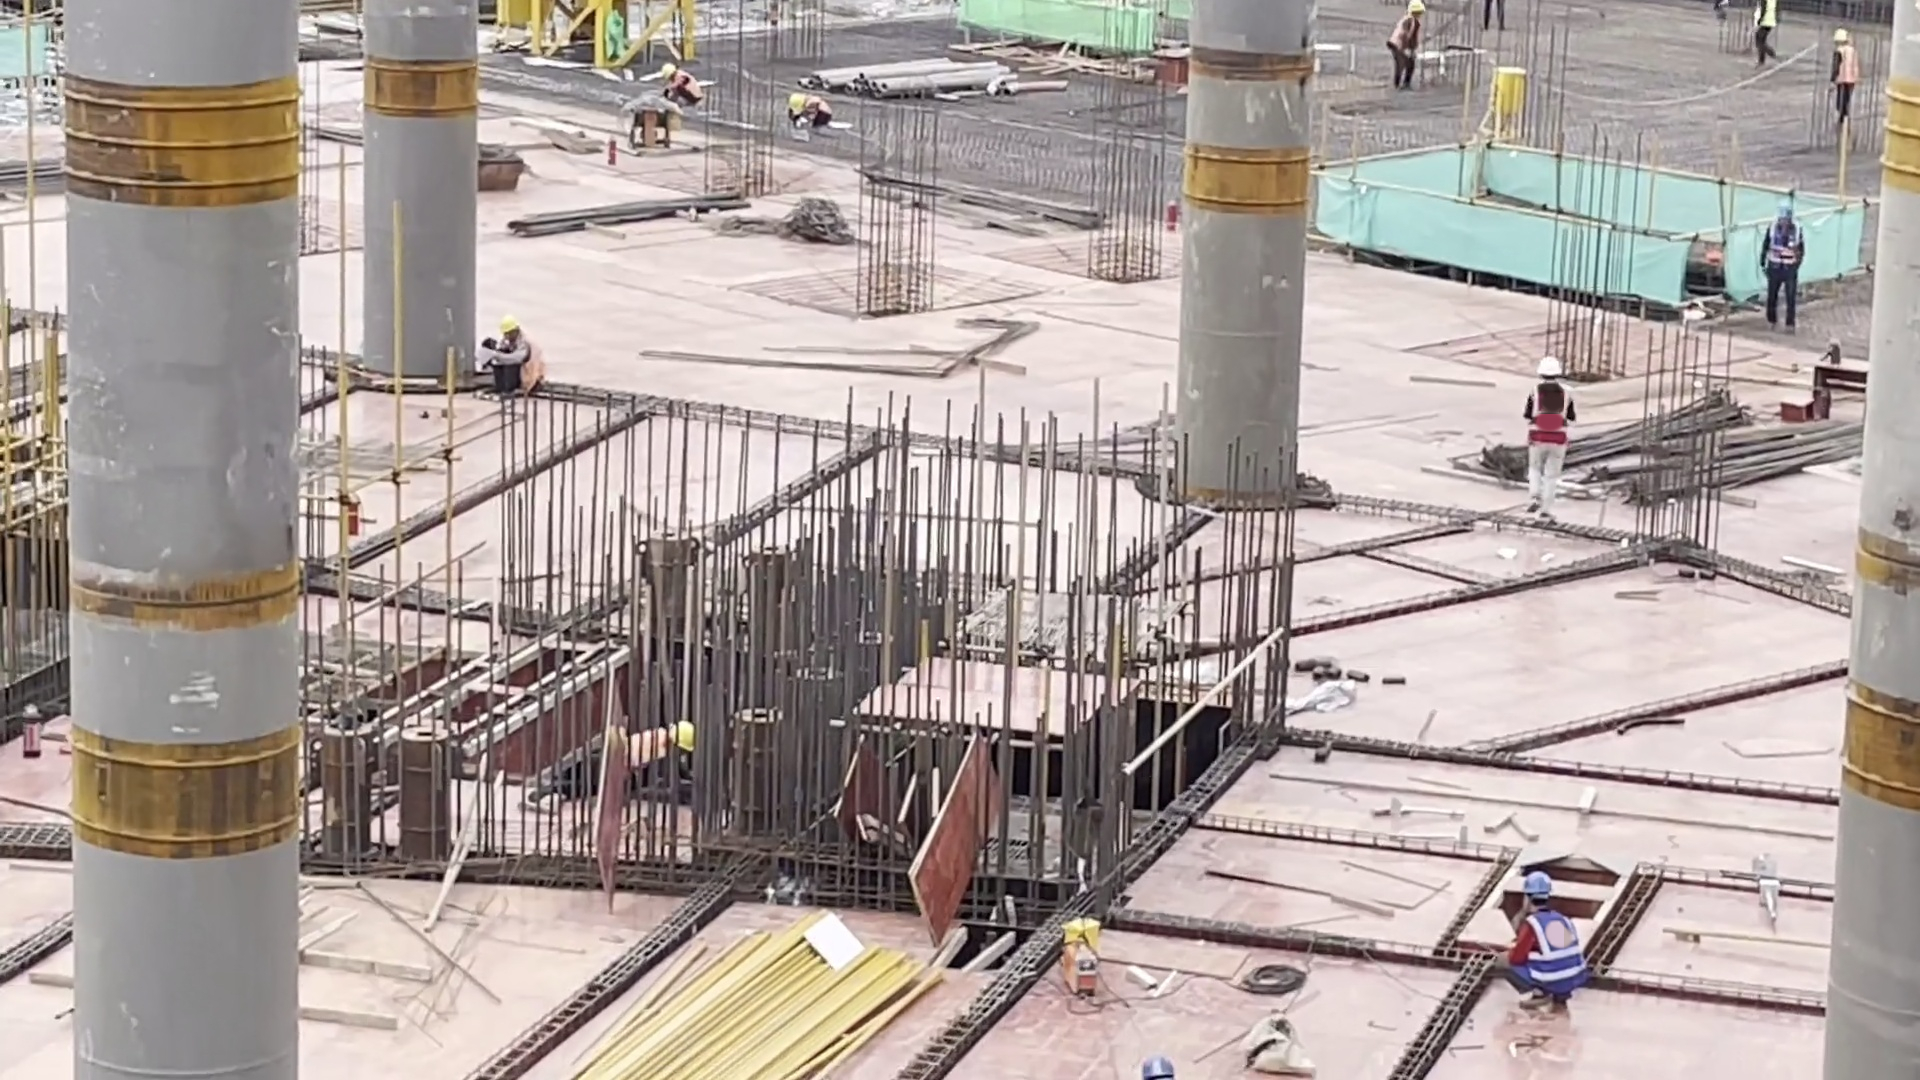helmet: (1521, 872, 1551, 896), (1537, 355, 1563, 374), (789, 92, 807, 112), (500, 315, 518, 333), (659, 63, 675, 82), (1833, 28, 1851, 42), (1774, 206, 1795, 217), (1405, 1, 1424, 13)
person: (1497, 865, 1589, 1023), (1521, 351, 1576, 527), (1761, 203, 1809, 339), (479, 316, 547, 404), (1391, 1, 1431, 92), (1832, 29, 1860, 136), (1747, 1, 1788, 68), (659, 64, 704, 111), (791, 87, 828, 132), (1483, 1, 1508, 35)
vest: (1502, 909, 1591, 995), (1529, 381, 1573, 448), (1765, 222, 1804, 276), (508, 335, 544, 390)
